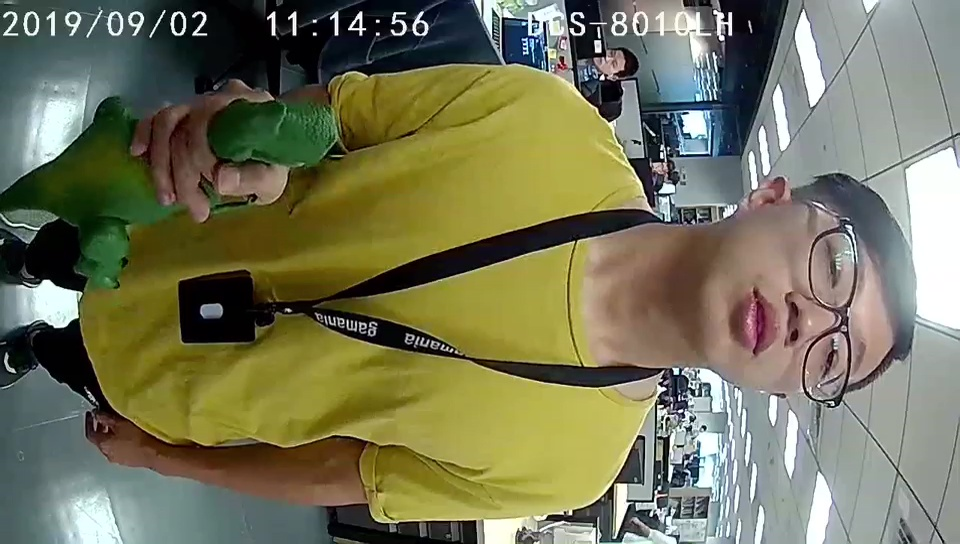rex: (71, 97, 338, 287)
